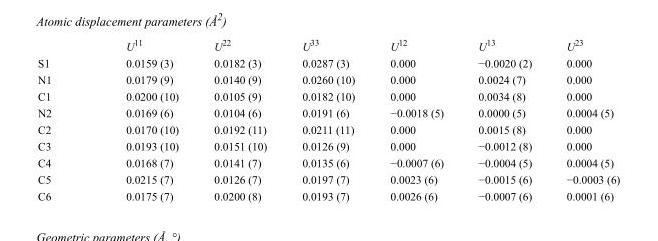table: (37, 37, 619, 201)
table column: (88, 37, 195, 201), (371, 37, 460, 201), (195, 37, 283, 201), (283, 37, 371, 201), (460, 37, 548, 201), (548, 37, 619, 201), (37, 37, 88, 201)
table column header: (37, 37, 619, 54)
table row: (37, 37, 619, 54), (37, 70, 619, 87), (37, 87, 619, 104), (37, 120, 619, 137), (37, 137, 619, 154), (37, 170, 619, 187), (37, 54, 619, 70), (37, 104, 619, 120), (37, 154, 619, 170), (37, 187, 619, 201)
